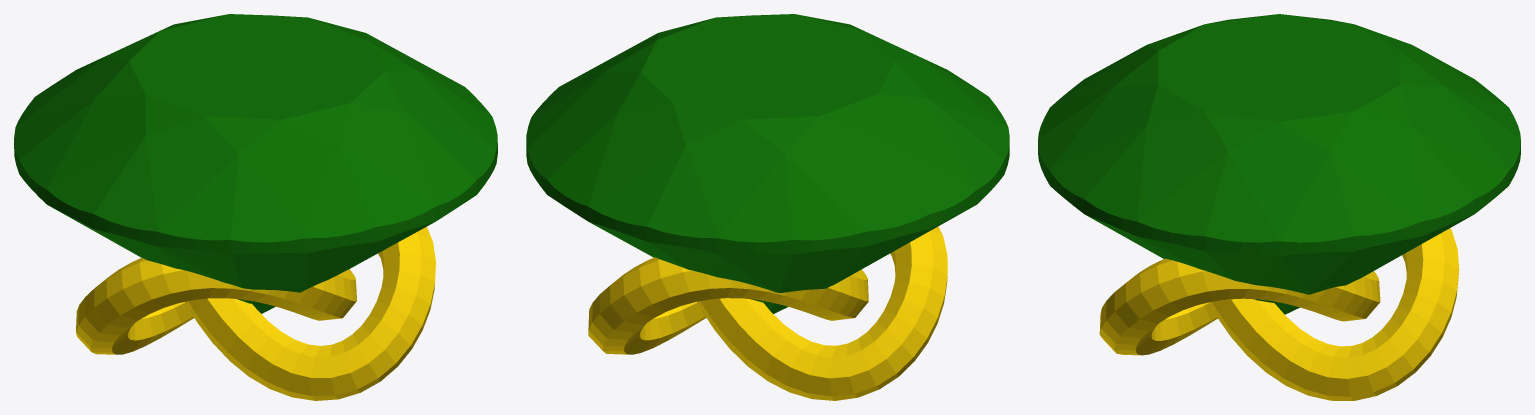
The model's file is GreenJewel.fbx.
3 renders of one model, left to right at view 1: azimuth 30°, elevation 25°; view 2: azimuth 150°, elevation 25°; view 3: azimuth 270°, elevation 25°, orthographic.
Parts seen in each view (by area): view 1: dobj, TorusKnot; view 2: dobj, TorusKnot; view 3: dobj, TorusKnot.
Part boxes in pixels (x1,y1,x2,y2): dobj: [14, 14, 497, 313]; TorusKnot: [76, 226, 435, 400]; dobj: [526, 14, 1009, 313]; TorusKnot: [588, 226, 947, 400]; dobj: [1038, 14, 1520, 314]; TorusKnot: [1099, 228, 1459, 400].
Bounding box in the file's own units: 60.63 × 39.16 × 60.63.
